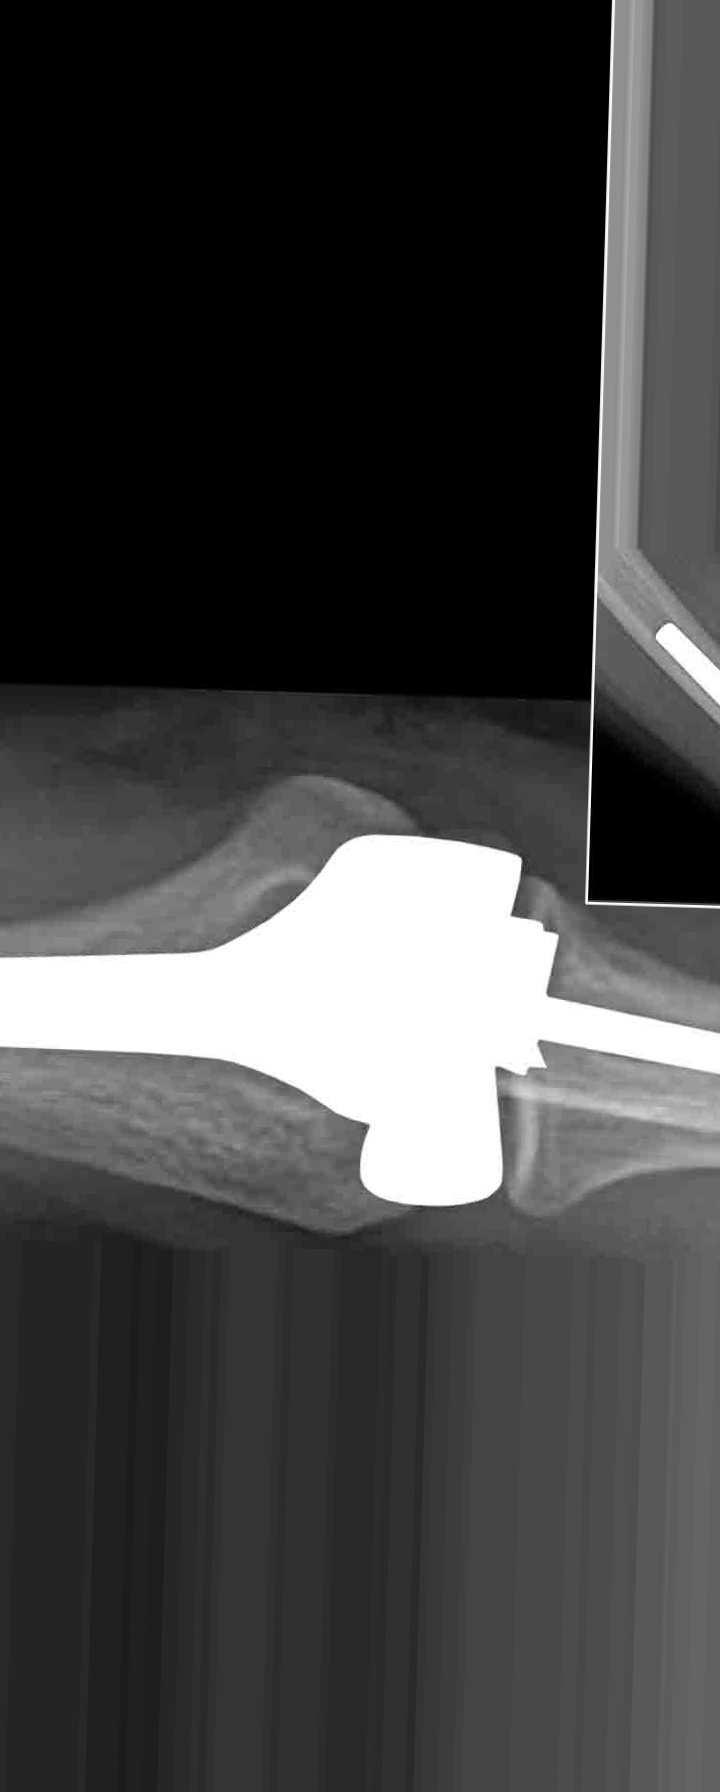Elbow - IBP - Biomet: (1, 795, 570, 1250)
